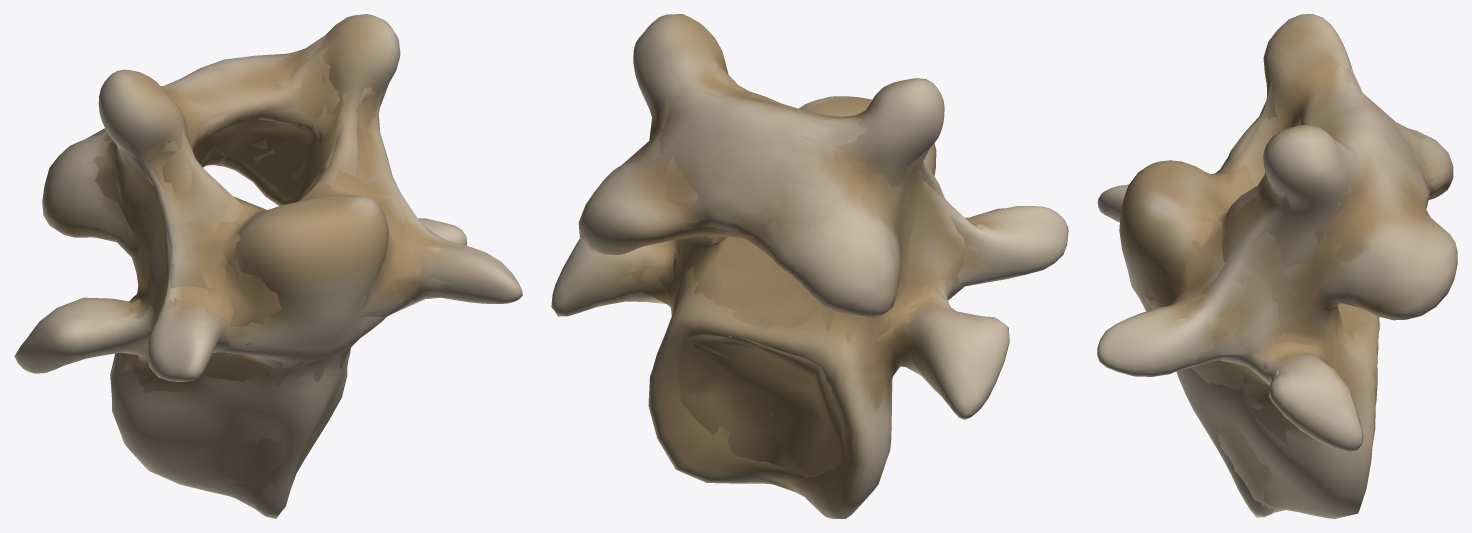
File: vertebra cervicalis 7.fbx
3 views of the same model, side by side, from view 1: azimuth 30°, elevation 25°; view 2: azimuth 150°, elevation 25°; view 3: azimuth 270°, elevation 25° (orthographic). The views are drawn at different scales.
Parts seen in each view (by area): view 1: vertebra cervicalis 7, vertebra cervicalis 7 low; view 2: vertebra cervicalis 7, vertebra cervicalis 7 low; view 3: vertebra cervicalis 7, vertebra cervicalis 7 low.
Part boxes in pixels (box(x1,y1,x2,y2)): vertebra cervicalis 7: box(14, 14, 522, 518); vertebra cervicalis 7 low: box(64, 35, 455, 509); vertebra cervicalis 7: box(551, 14, 1068, 518); vertebra cervicalis 7 low: box(595, 50, 1005, 495); vertebra cervicalis 7: box(1097, 14, 1457, 518); vertebra cervicalis 7 low: box(1137, 63, 1433, 512).
Size of the model in its own units: 11.95 by 12.41 by 9.16.
1 material, 1 textured.
